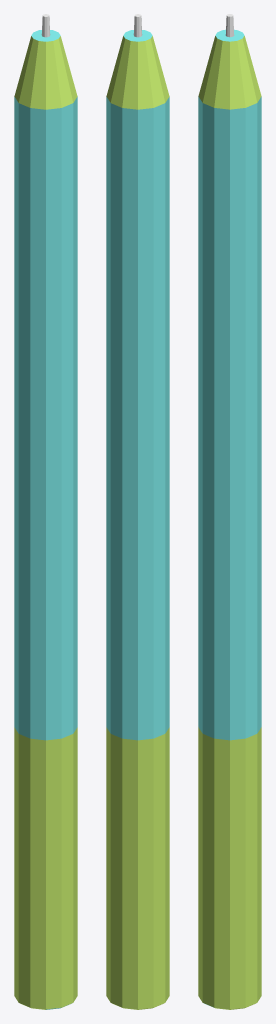
The model's file is pen.obj.
3 renders of one model, left to right at view 1: azimuth 90°, elevation 25°; view 2: azimuth 210°, elevation 25°; view 3: azimuth 270°, elevation 25°, orthographic.
Visible parts, largest first — view 1: pen; view 2: pen; view 3: pen.
Boxes of the visible parts, box(x1,y1,x2,y2) form: pen: box(14, 14, 77, 1009); pen: box(106, 14, 169, 1009); pen: box(198, 14, 261, 1009).
Bounding box in the file's own units: 0.78 × 13.38 × 0.78.
